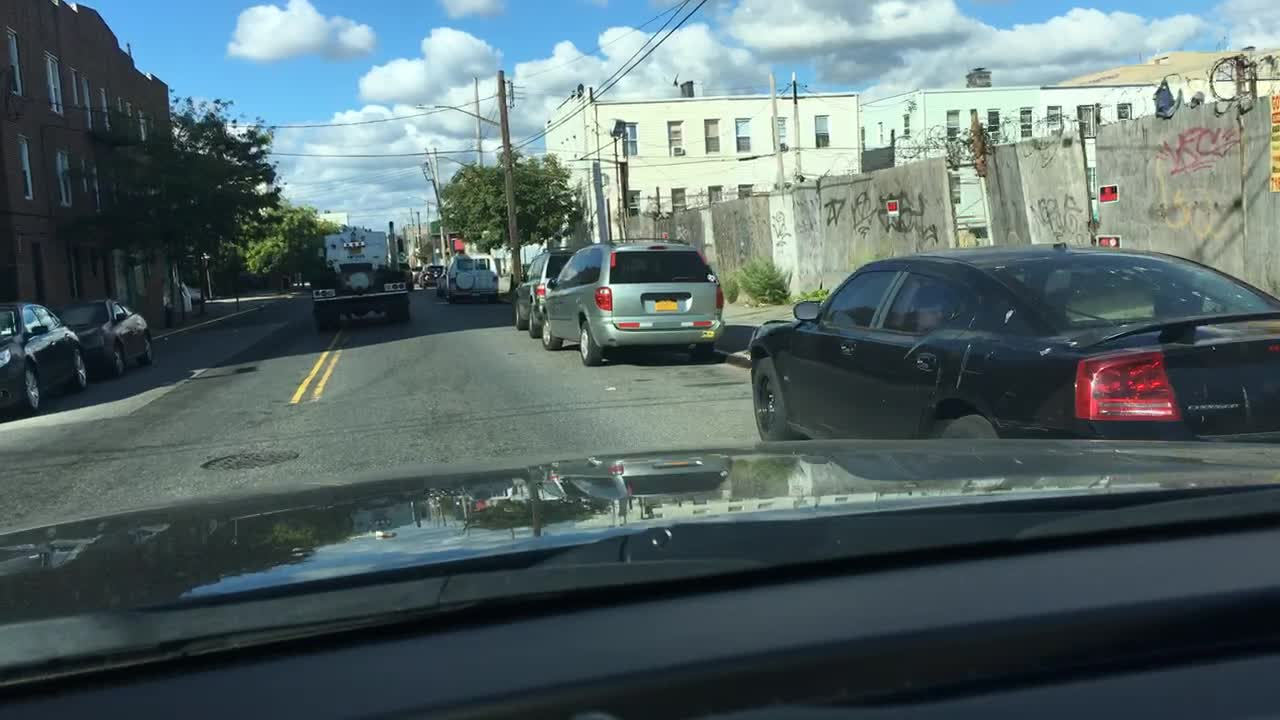car: (744, 243, 1277, 449), (539, 242, 724, 366), (1, 301, 87, 416), (52, 301, 149, 380), (512, 248, 575, 333), (445, 254, 500, 299), (183, 281, 207, 305), (420, 263, 444, 286), (435, 268, 451, 295)
truck: (306, 222, 413, 331)
